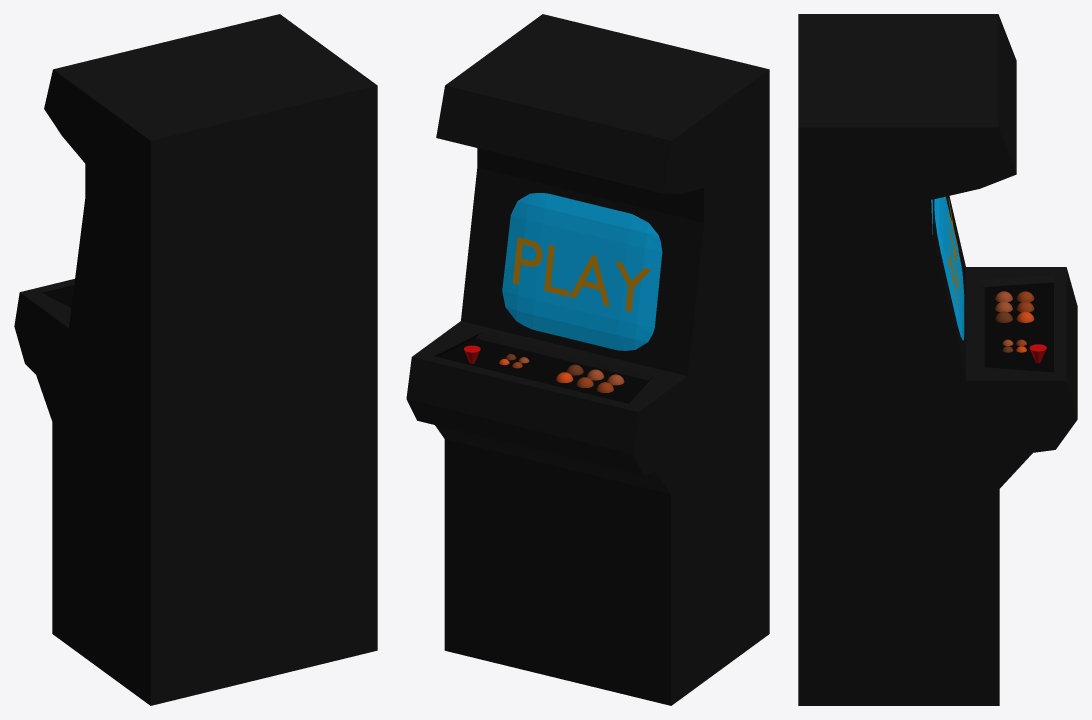
Rendered from arcade.obj.
3 views of the same model, side by side, from view 1: azimuth 30°, elevation 25°; view 2: azimuth 150°, elevation 25°; view 3: azimuth 270°, elevation 25° (orthographic). The views are drawn at different scales.
Visible parts, largest first — view 1: Cube; view 2: Cube, Mball.001, Text; view 3: Cube, Mball.001.
Part boxes in pixels (box(x1,y1,x2,y2)): Cube: box(14, 14, 377, 705); Cube: box(406, 14, 769, 705); Mball.001: box(502, 193, 662, 350); Text: box(513, 237, 651, 311); Cube: box(798, 14, 1077, 705); Mball.001: box(931, 196, 964, 340).
Size of the model in its own units: 2.76 by 6.57 by 2.87.
